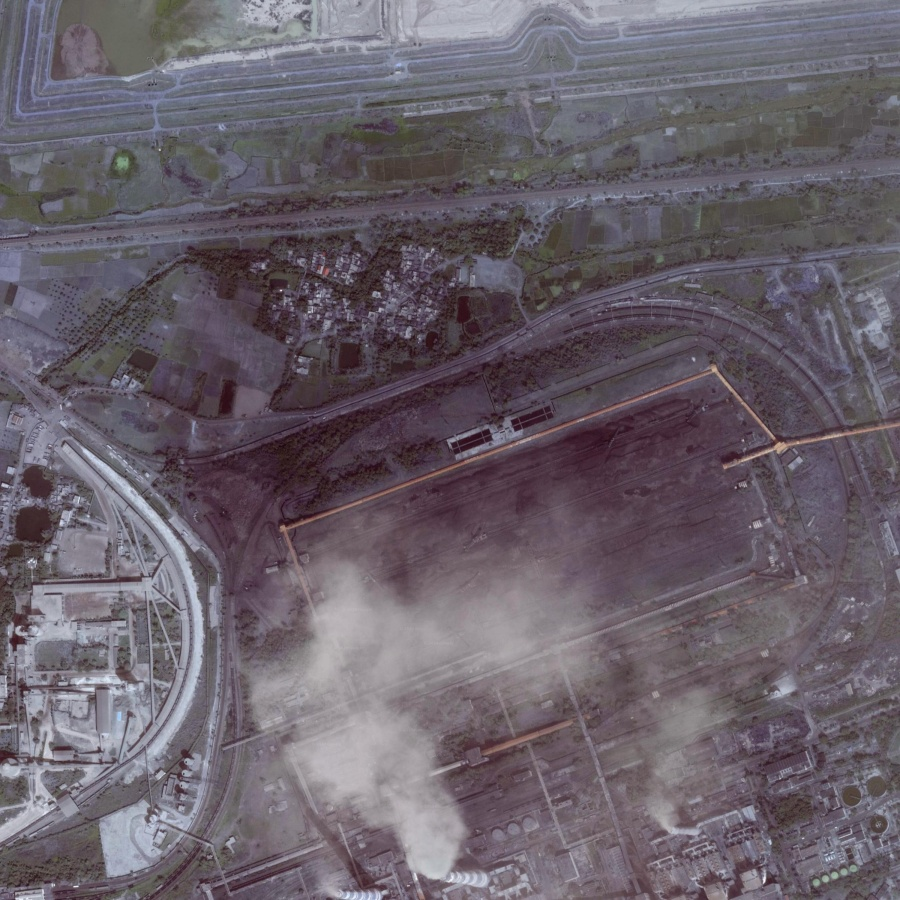PowerPlant: (230, 378, 811, 773)
